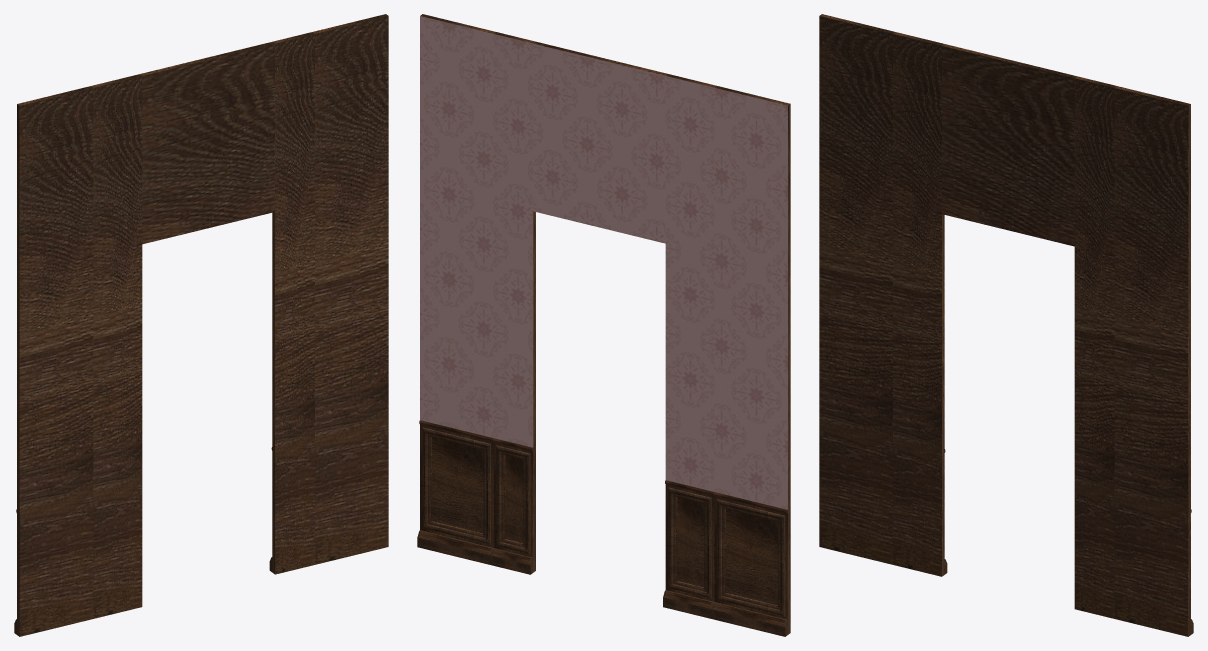
File: Mur_Porte_Fille.fbx
3 views of the same model, side by side, from view 1: azimuth 30°, elevation 25°; view 2: azimuth 150°, elevation 25°; view 3: azimuth 330°, elevation 25° (orthographic).
Visible parts, largest first — view 1: Cube; view 2: Cube; view 3: Cube.
Boxes of the visible parts, bbox=[...] form: Cube: bbox=[14, 14, 388, 636]; Cube: bbox=[417, 14, 790, 636]; Cube: bbox=[819, 14, 1193, 636].
Bounding box in the file's own units: 800 × 1100 × 20.
